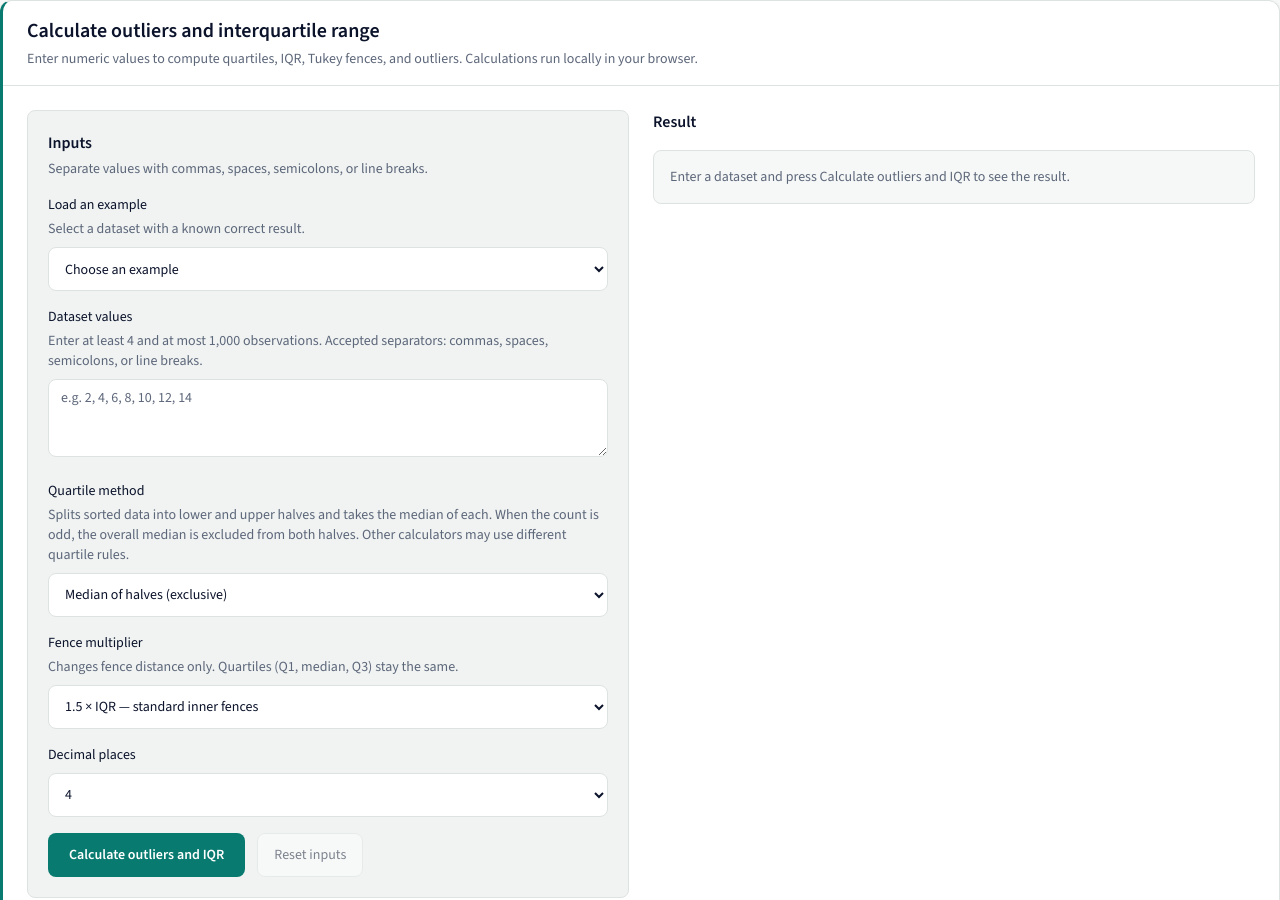
Test: OutlierIqrCalculator calculation workflow › updates displayed precision without marking the result stale
The width and height of the screenshot is (1280, 900).
Type "1.5, 2.25, .5, 3.75, 4.0" into the text box labelled "Dataset values" at (328, 418), box [48,379,608,457]
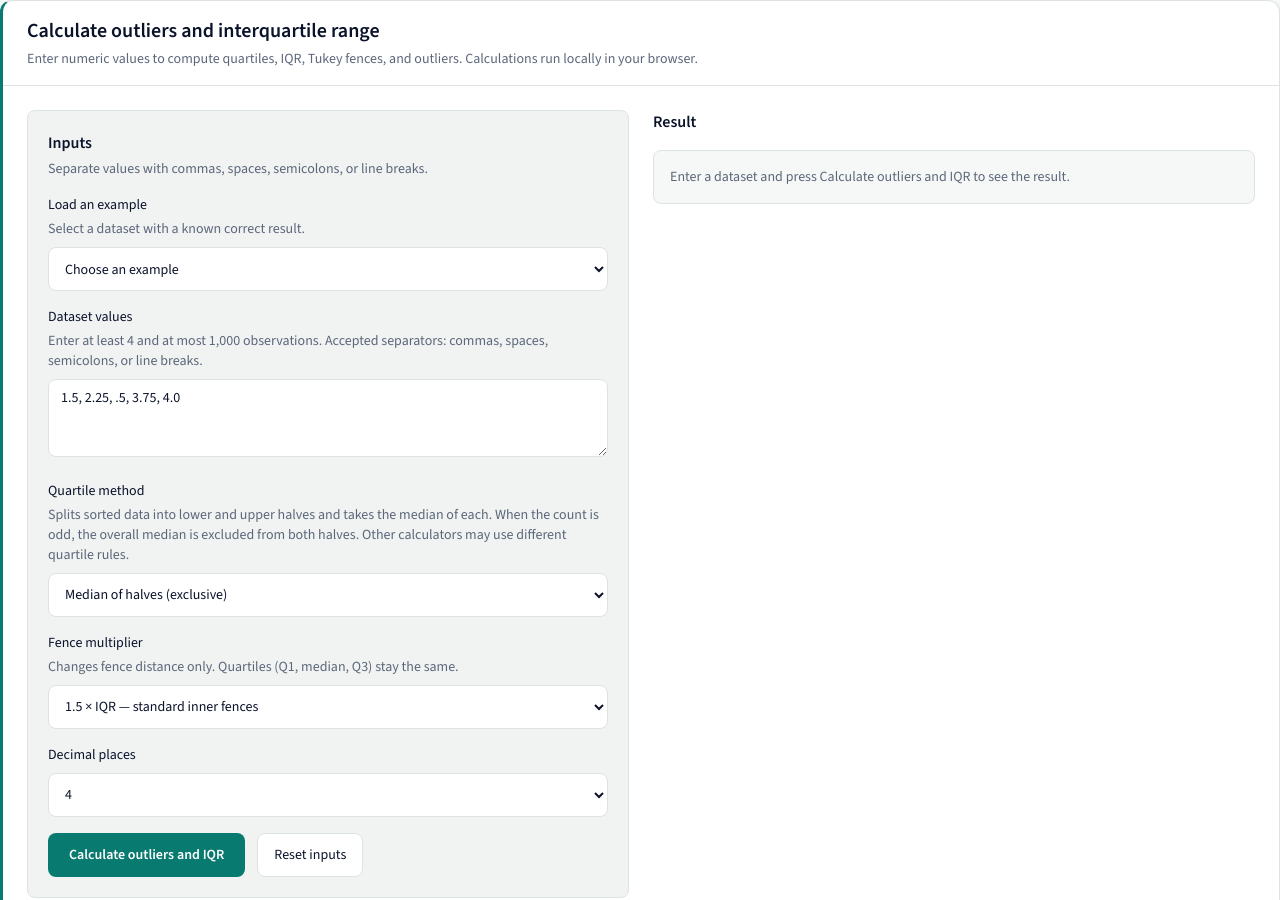
Click the button "Calculate outliers and IQR" at (147, 855), box [48,833,245,877]
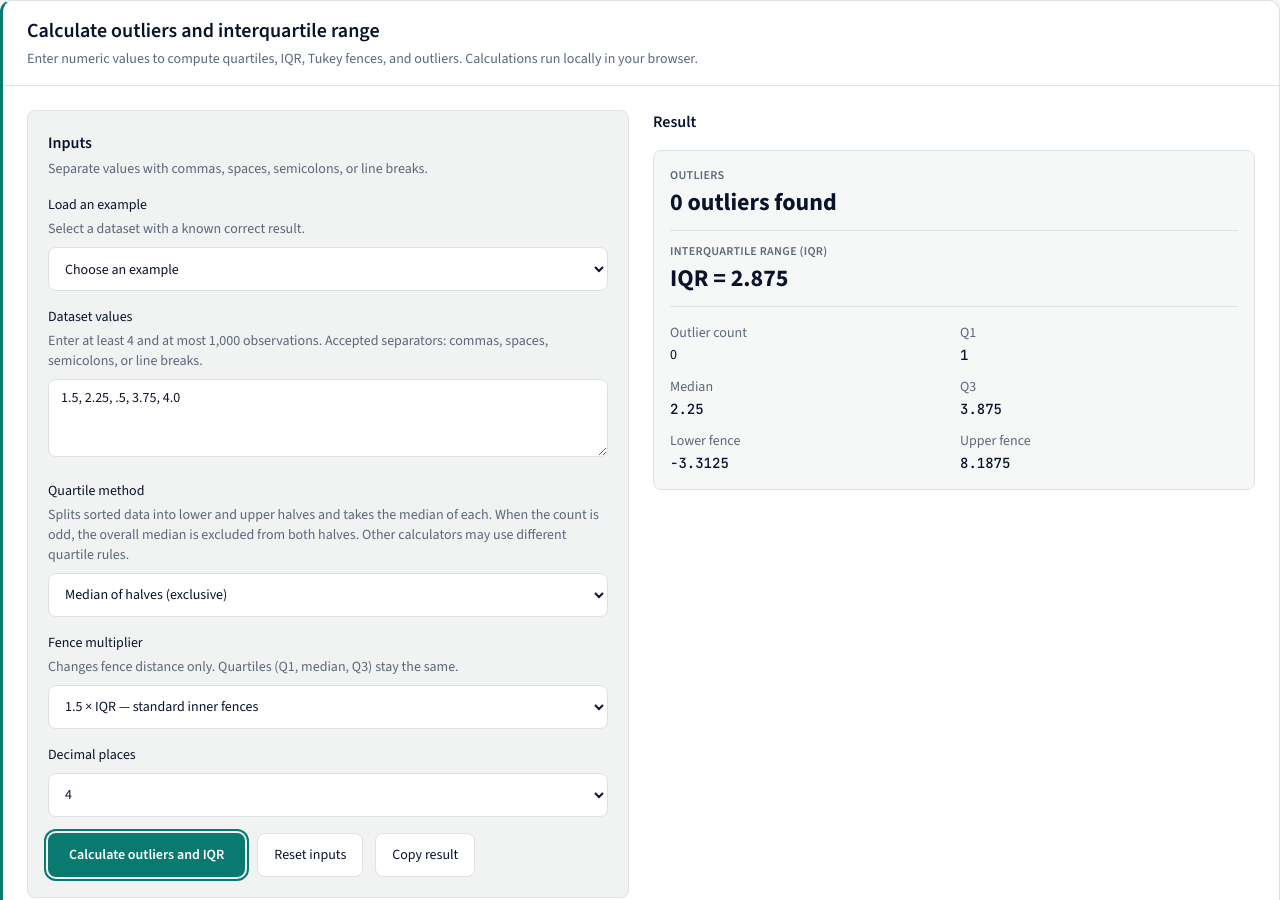
Select "2" in the dropdown labelled "Decimal places" at (328, 795), box [48,773,608,817]
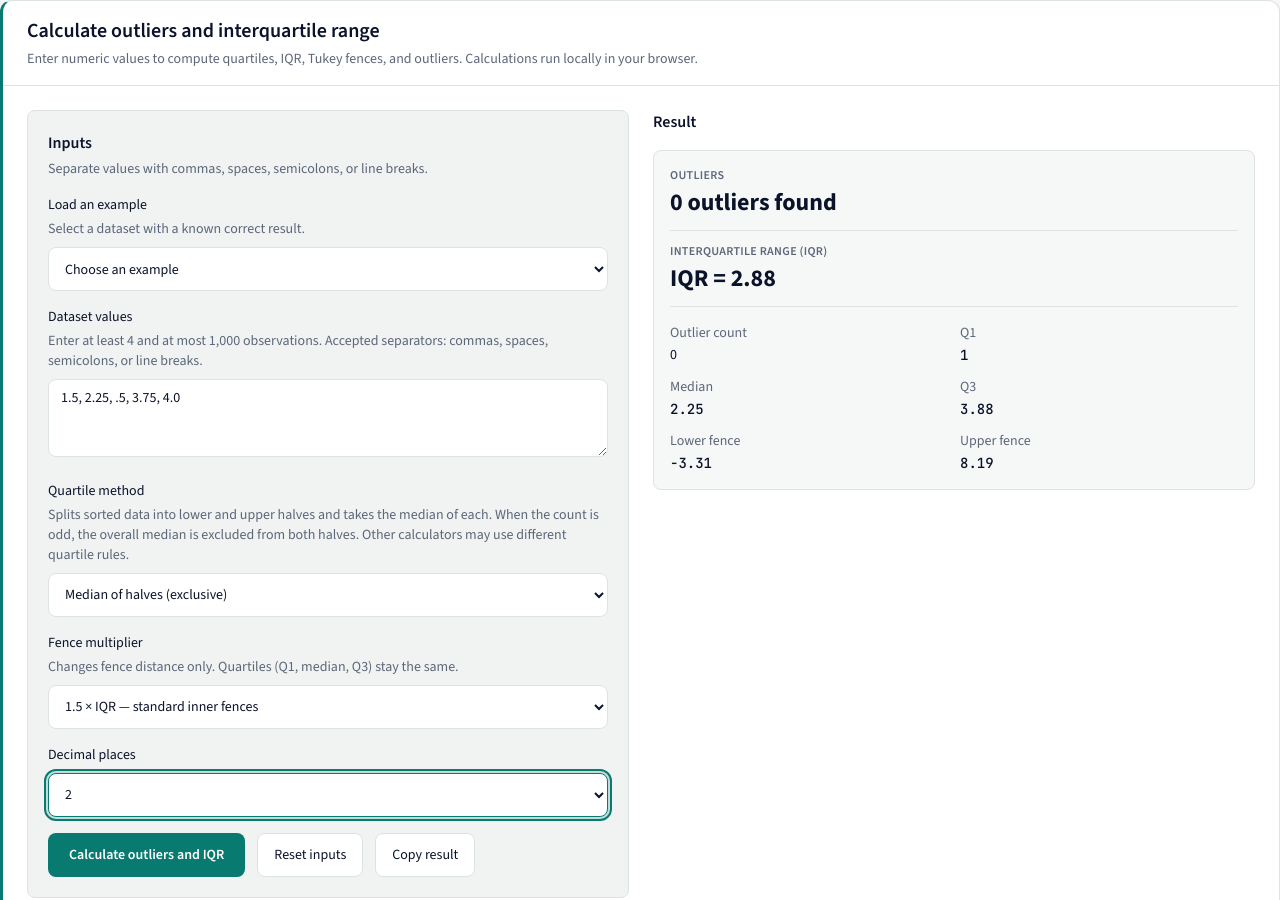
Check: the element showing "IQR = 2.88" is shown, box [670,262,776,294]
Select "6" in the dropdown labelled "Decimal places" at (328, 795), box [48,773,608,817]
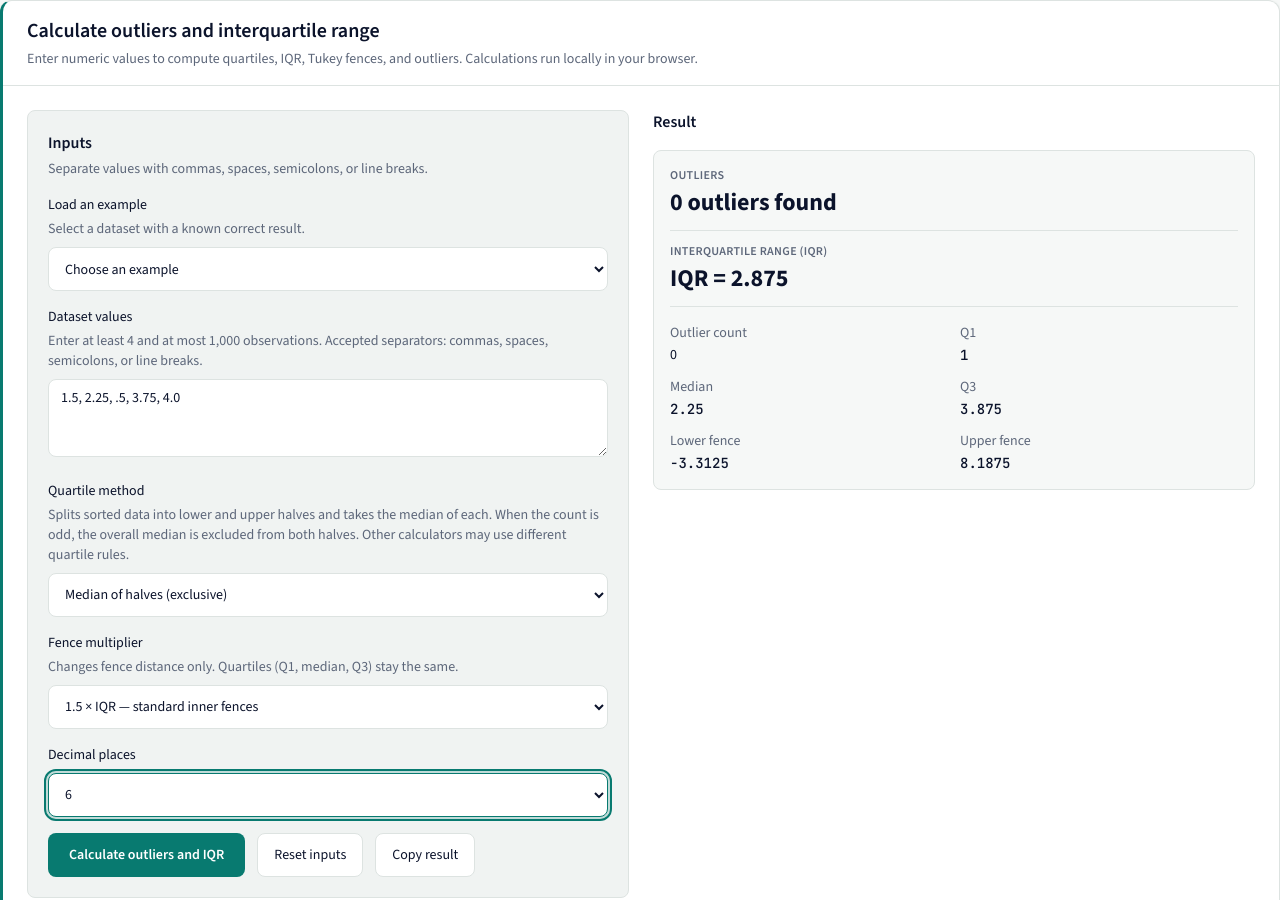
Check: the element showing "IQR = 2.875" is shown, box [670,262,788,294]
